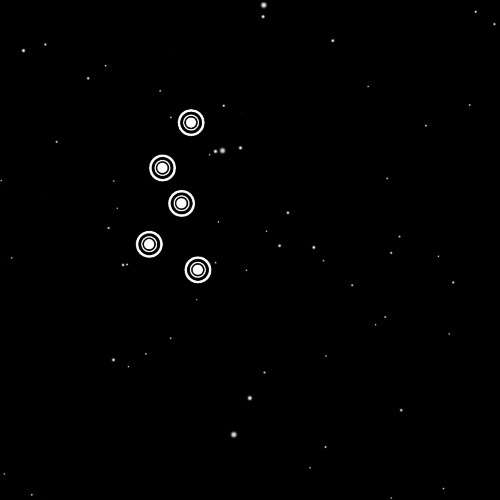cassiopeia: (114, 92, 220, 299)
